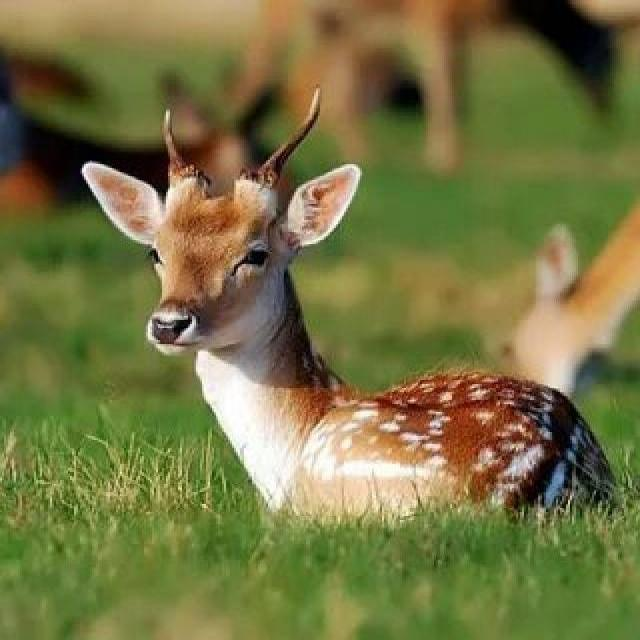deer: (92, 155, 640, 560)
